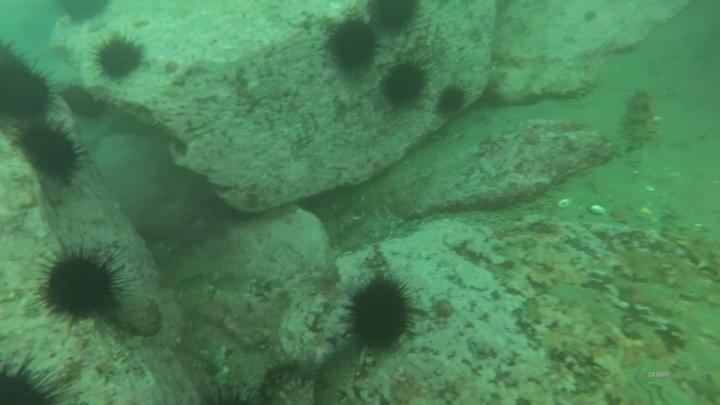echinus: (44, 244, 119, 335), (346, 277, 411, 356), (18, 121, 81, 187), (1, 42, 51, 124), (322, 16, 386, 79), (379, 55, 434, 117), (360, 1, 428, 43), (94, 33, 145, 84), (61, 82, 110, 122), (436, 81, 476, 121)
holothurian: (667, 227, 720, 281), (623, 85, 660, 155)
